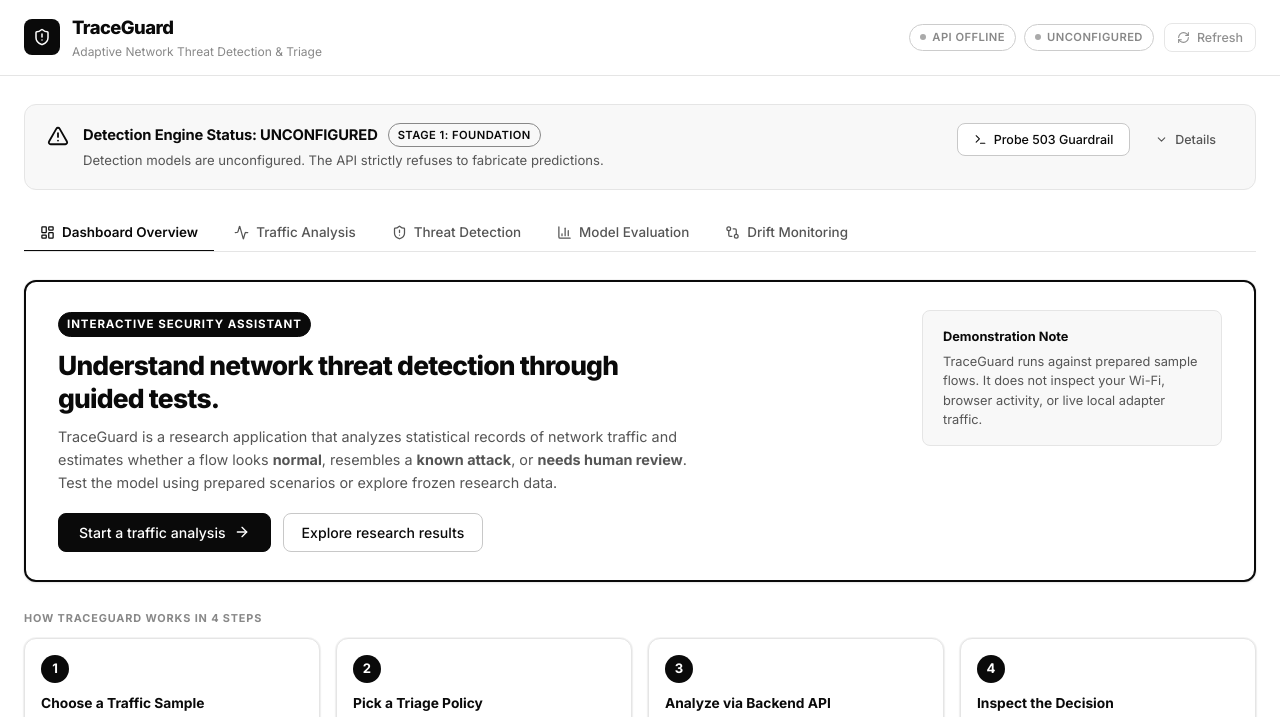
Test: TraceGuard Stage 5 Complete Integration › allows switching to Drift Monitoring tab and displays historical PSI study
Click the tab "Drift Monitoring" at x=787, y=233, box [709,214,864,252]
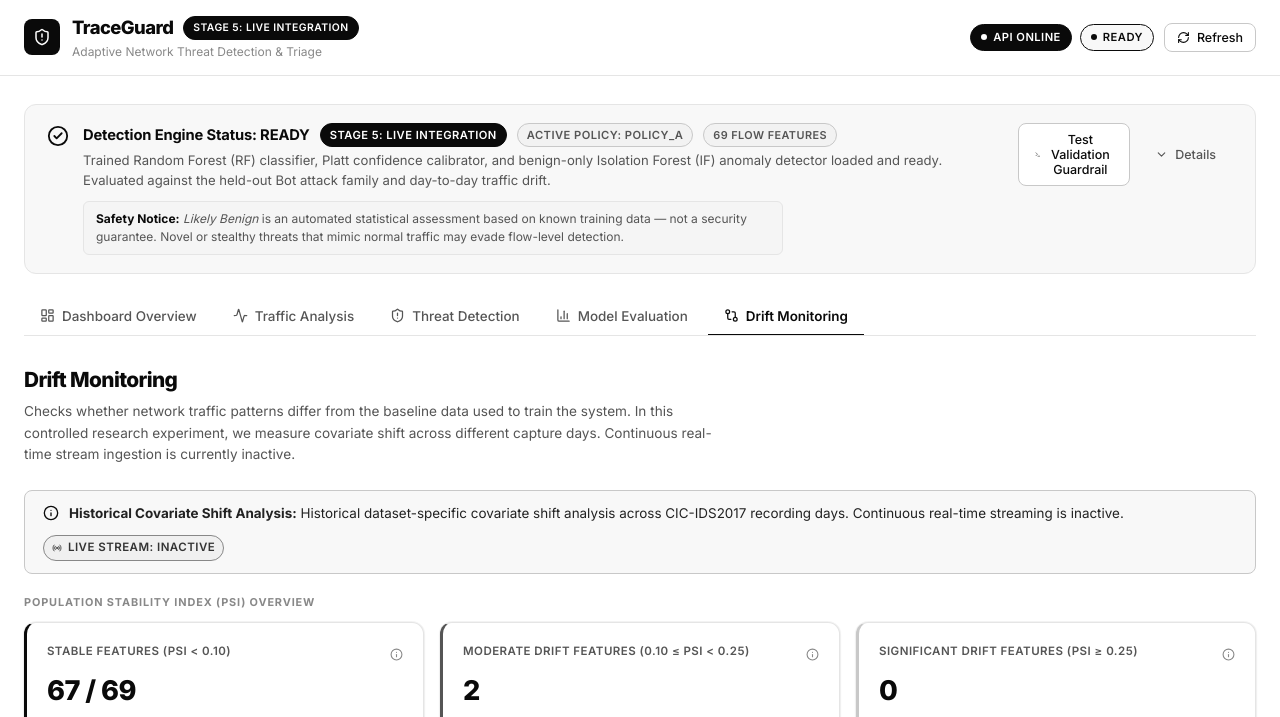
Result: the text "Historical Covariate Shift Analysis:" is shown at [69,505,297,521]
Result: the text "Stable Features (PSI < 0.10)" is shown at [47,643,231,660]
Result: the text "Live Stream: Inactive" is shown at [43,535,224,561]
